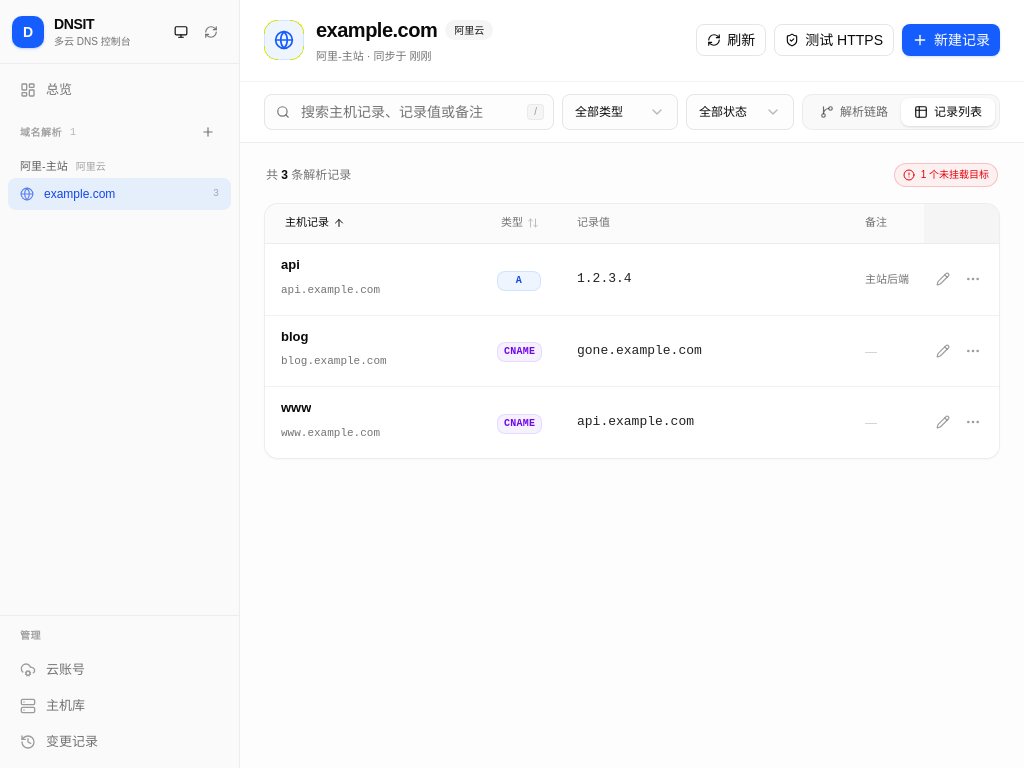
Test: web app › sorts and searches records in the table view
Expected: the button "api" is shown, [281,256,300,275]
Click the button with aria-label "按主机记录排序": (315, 223) [281,211,349,235]
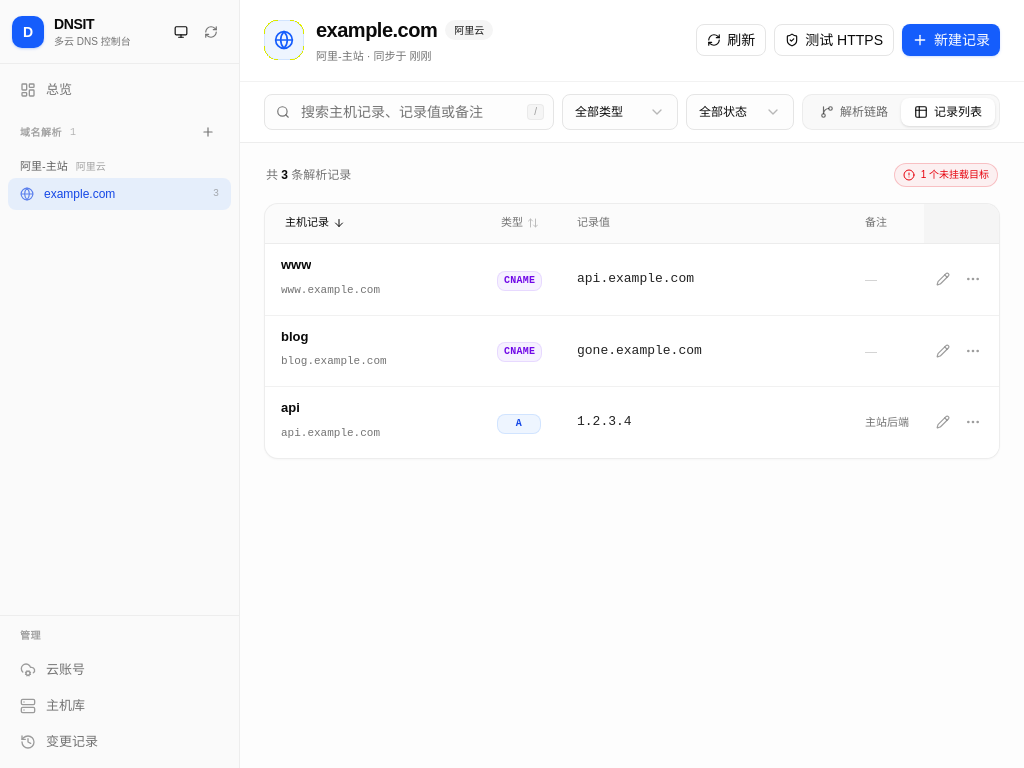
Expected: the button "www" is shown, [281,256,311,275]
Now the column heading "主机记录" has attribute aria-sort="descending", box [265,204,485,244]
In the field named "搜索解析记录": (409, 112) [264,94,554,130], type "api"
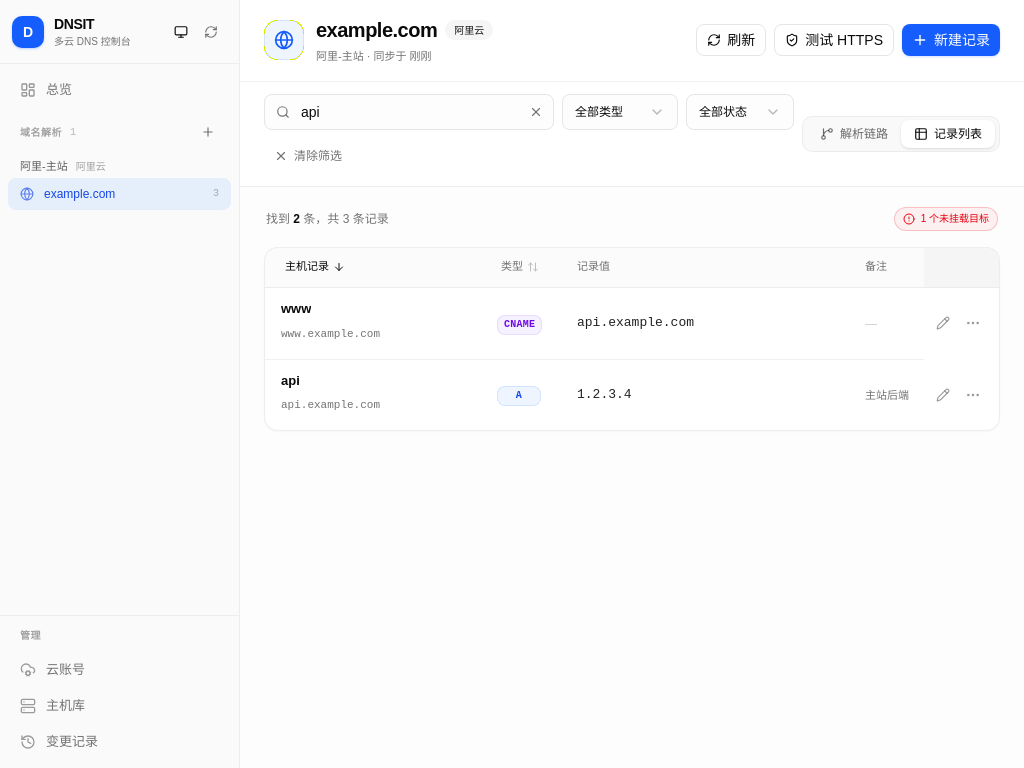
Expected: the text "api.example.com" is shown, [577,314,694,333]
Now the button "blog.example.com" is gone
